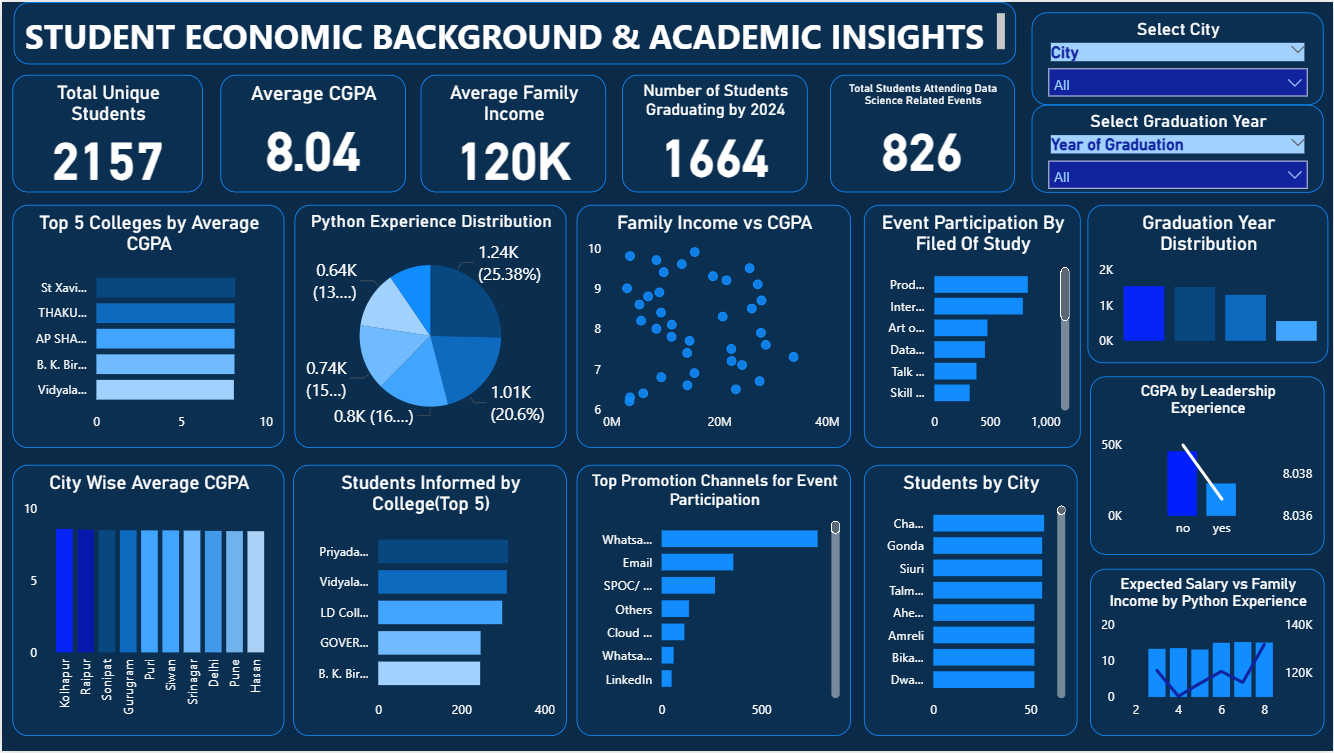

The page's visual inventory and layout, read from the dashboard file:
{"tool":"powerbi","page":{"name":"Page 1","canvas":[1280,720],"ordinal":0},"visuals":[{"type":"textbox","box":[10.9,0,963.9,60.3],"z":0},{"type":"card","title":"Total Unique Students","fields":{"Values":["Count(All Events Data.Email ID)"]},"box":[9.7,70,183.4,113.4],"z":1000},{"type":"card","title":"Average CGPA","fields":{"Values":["Avg(All Events Data.CGPA)"]},"box":[209.9,70,178.6,113.4],"z":2000},{"type":"card","title":"Average Family Income","fields":{"Values":["Avg(All Events Data.FamilyIncomeMidpoint)"]},"box":[403,70,178.6,113.4],"z":3000},{"type":"columnChart","title":"Graduation Year Distribution","fields":{"Category":["All Events Data.Year of Graduation"],"Y":["CountNonNull(All Events Data.Email ID)"]},"box":[1043.6,195.4,231.6,152],"z":4000},{"type":"columnChart","title":"City Wise Average CGPA","fields":{"Category":["All Events Data.City"],"Y":["Avg(All Events Data.CGPA)"]},"box":[9.7,445.2,261.8,260.6],"z":5000},{"type":"scatterChart","title":"Family Income vs CGPA","fields":{"X":["All Events Data.FamilyIncomeMidpoint"],"Y":["All Events Data.CGPA"]},"box":[552.5,195.4,264.2,234],"z":6000},{"type":"pieChart","title":"Python Experience Distribution","fields":{"Y":["CountNonNull(All Events Data.Email ID)"],"Category":["All Events Data.Experience with python (Months)"]},"box":[281.1,195.4,261.8,234],"z":7000},{"type":"barChart","title":"Top 5  Colleges by Average CGPA","fields":{"Category":["All Events Data.College Name"],"Y":["Avg(All Events Data.CGPA)"]},"box":[9.7,195.4,261.8,234],"z":8000},{"type":"barChart","title":"Students by City","fields":{"Category":["All Events Data.City"],"Y":["CountNonNull(All Events Data.Email ID)"]},"box":[828.8,445.2,205.1,260.6],"z":9000},{"type":"lineClusteredColumnComboChart","title":"Expected Salary vs Family Income by Python Experience","fields":{"Category":["All Events Data.Experience with python (Months)"],"Y":["Avg(All Events Data.Expected salary (Lac))"],"Y2":["Avg(All Events Data.FamilyIncomeMidpoint)"]},"box":[1046,545.3,225.6,160.5],"z":10000},{"type":"barChart","title":"Event Participation By Filed Of Study","fields":{"Category":["All Events Data.Events"],"Y":["CountNonNull(All Events Data.Email ID)"]},"box":[828.8,195.4,208.7,234],"z":11000},{"type":"lineClusteredColumnComboChart","title":" CGPA by Leadership Experience","fields":{"Category":["All Events Data.Leadership- skills"],"Y":["Sum(All Events Data.Expected salary (Lac))"],"Y2":["Avg(All Events Data.CGPA)"]},"box":[1046,359.5,225.6,171.3],"z":12000},{"type":"card","title":"Number of Students Graduating by 2024","fields":{"Values":["Count(All Events Data.Email ID)"]},"box":[596,70,178.6,113.4],"z":13000},{"type":"clusteredBarChart","title":"Top Promotion Channels for Event Participation","fields":{"Category":["All Events Data.How did you come to know about this event?"],"Y":["Count(All Events Data.Email ID)"]},"box":[552.5,445.2,264.2,260.6],"z":14000},{"type":"card","title":"Total Students Attending Data Science Related Events","fields":{"Values":["Count(All Events Data.Email ID)"]},"box":[796.3,70,177.3,113.4],"z":15000},{"type":"barChart","title":"Students Informed by College(Top 5)","fields":{"Category":["All Events Data.College Name"],"Y":["CountNonNull(All Events Data.Email ID)"]},"box":[279.9,445.2,263,260.6],"z":16000},{"type":"slicer","title":"Select City","fields":{"Values":["All Events Data.City"]},"box":[990.5,9.7,281.1,89.3],"z":17000},{"type":"slicer","title":"Select Graduation Year","fields":{"Values":["All Events Data.Year of Graduation"]},"box":[990.5,98.9,281.1,84.5],"z":18000}]}

Visuals, with their boxes in screenshot pixels (x1, y1, x2, y2), scaled from the page's 1280x720 canvas onto the 1334x753 screenshot:
textbox: box=[11, 0, 1016, 63]
"Total Unique Students" card: box=[10, 73, 201, 192]
"Average CGPA" card: box=[219, 73, 405, 192]
"Average Family Income" card: box=[420, 73, 606, 192]
"Graduation Year Distribution" columnChart: box=[1088, 204, 1329, 363]
"City Wise Average CGPA" columnChart: box=[10, 466, 283, 738]
"Family Income vs CGPA" scatterChart: box=[576, 204, 851, 449]
"Python Experience Distribution" pieChart: box=[293, 204, 566, 449]
"Top 5  Colleges by Average CGPA" barChart: box=[10, 204, 283, 449]
"Students by City" barChart: box=[864, 466, 1078, 738]
"Expected Salary vs Family Income by Python Experience" lineClusteredColumnComboChart: box=[1090, 570, 1325, 738]
"Event Participation By Filed Of Study" barChart: box=[864, 204, 1081, 449]
" CGPA by Leadership Experience" lineClusteredColumnComboChart: box=[1090, 376, 1325, 555]
"Number of Students Graduating by 2024" card: box=[621, 73, 807, 192]
"Top Promotion Channels for Event Participation" clusteredBarChart: box=[576, 466, 851, 738]
"Total Students Attending Data Science Related Events" card: box=[830, 73, 1015, 192]
"Students Informed by College(Top 5)" barChart: box=[292, 466, 566, 738]
"Select City" slicer: box=[1032, 10, 1325, 104]
"Select Graduation Year" slicer: box=[1032, 103, 1325, 192]
